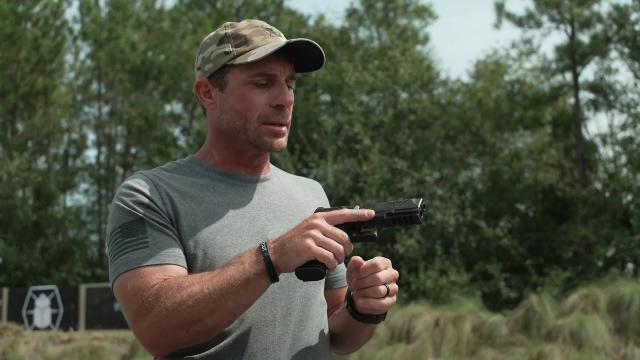handgun: (290, 194, 430, 288)
